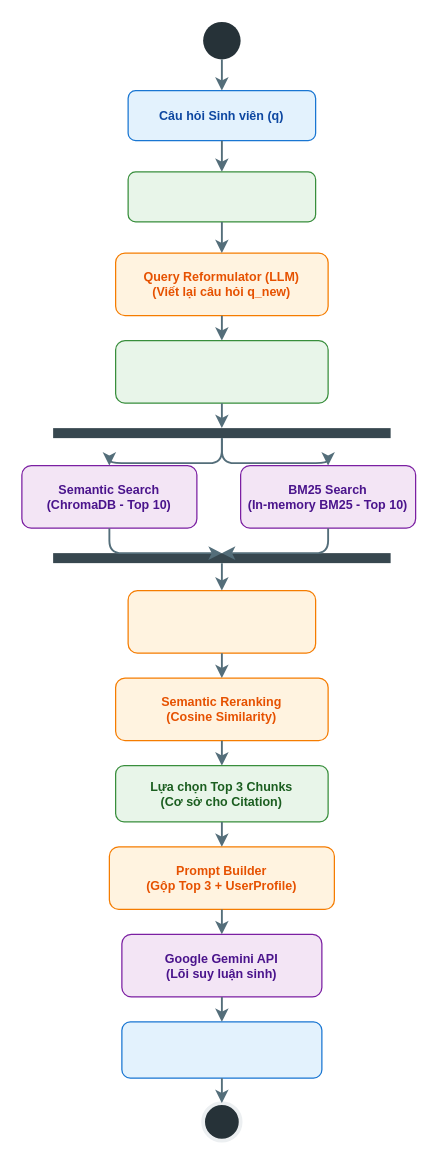
This 438x1164 diagram has some shape labels left out. Here are the shapes that lost their labels. From the top down, the centre of each, then its label:
At (x=221, y=196): "Lấy 5 cuộc hội thoại gần nhất".
At (x=221, y=371): "Lọc theo Metadata (course_id, doc_ids)".
At (x=221, y=621): "RRF Fusion (k=60) (Top 10 chunks)".
At (x=221, y=1049): "Sinh câu trả lời & Trích dẫn nguồn".
